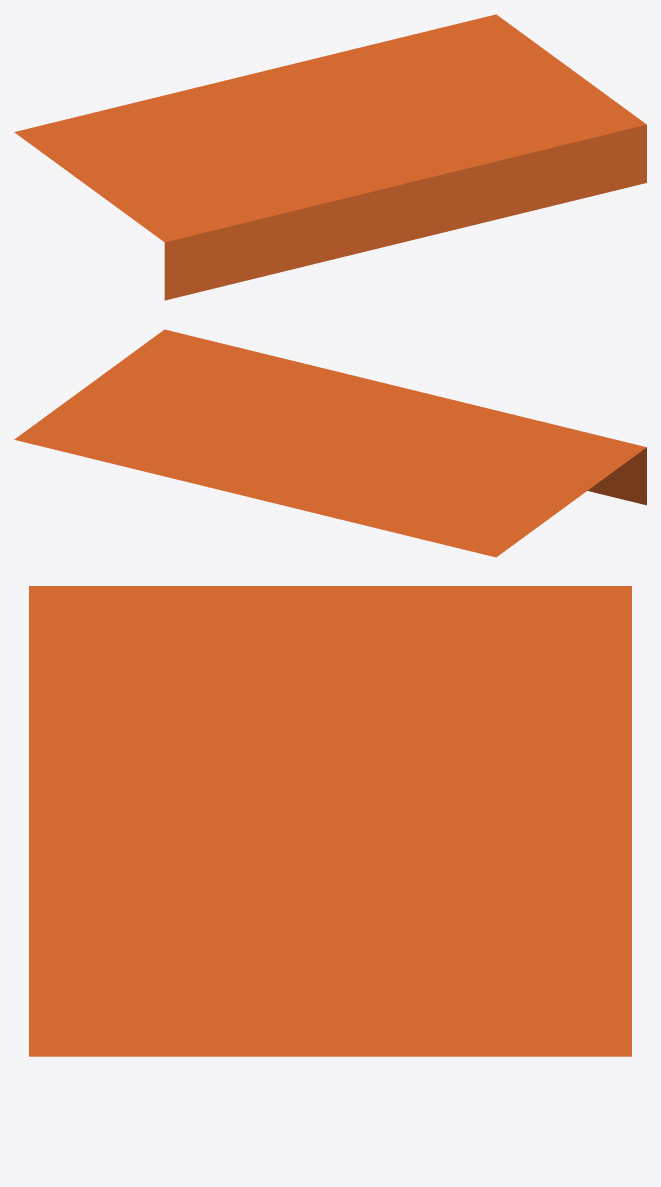
The model's file is ModuleP_doorskb_ab1.fbx.
The picture shows the model from 3 angles, top to bottom: view 1: azimuth 30°, elevation 25°; view 2: azimuth 150°, elevation 25°; view 3: azimuth 270°, elevation 25°; orthographic projection. The views are drawn at different scales.
Parts seen in each view (by area): view 1: ModuleP_doorskb_ab1; view 2: ModuleP_doorskb_ab1; view 3: ModuleP_doorskb_ab1.
Boxes of the visible parts, x1,y1,x2,y2 form: ModuleP_doorskb_ab1: [14, 14, 646, 300]; ModuleP_doorskb_ab1: [14, 329, 646, 557]; ModuleP_doorskb_ab1: [29, 586, 631, 1056].
Size of the model in its own units: 9.84 by 5.33 by 1.14.
